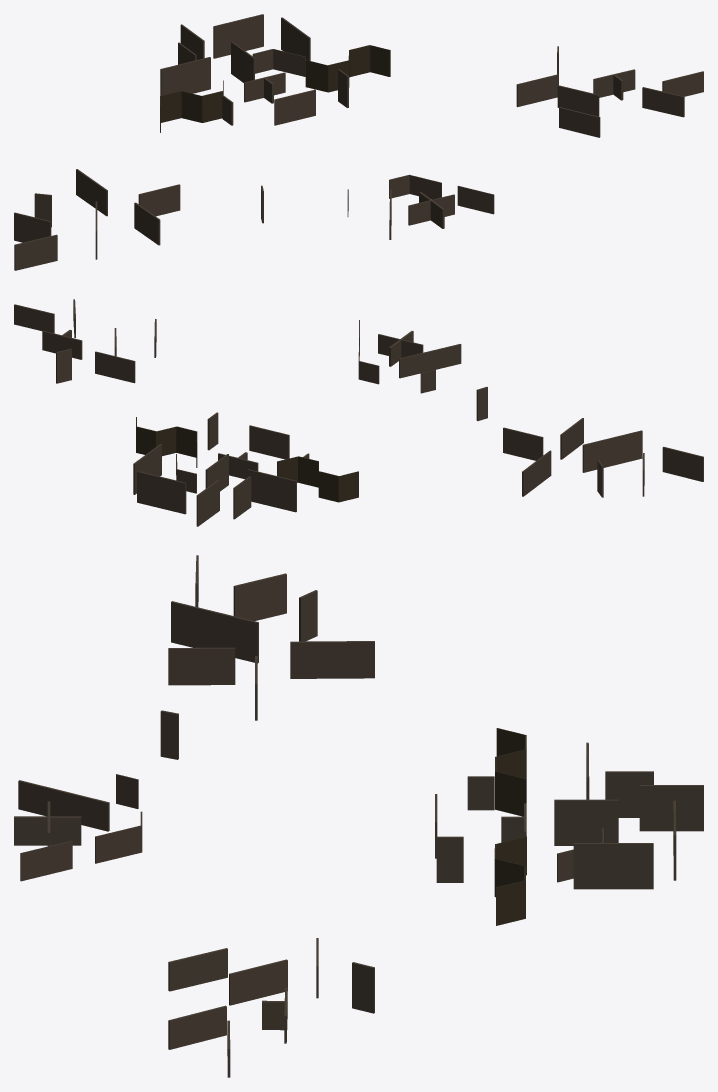
The model's file is Stage1SeeableWalls.fbx.
3 views of the same model, one above another, from view 1: azimuth 30°, elevation 25°; view 2: azimuth 150°, elevation 25°; view 3: azimuth 270°, elevation 25° (orthographic). The views are drawn at different scales.
Visible parts, largest first — view 1: InnerWalls2, InnerWalls1, InnerWalls28, InnerWalls15, InnerWalls22, InnerWalls27, InnerWalls21, InnerWalls18, InnerWalls5, InnerWalls11, InnerWalls9, InnerWalls12 (+13 smaller); view 2: InnerWalls1, InnerWalls7, InnerWalls28, InnerWalls2, InnerWalls15, InnerWalls3, InnerWalls22, InnerWalls21, InnerWalls5, InnerWalls11, InnerWalls27, InnerWalls23 (+13 smaller); view 3: InnerWalls30, InnerWalls7, InnerWalls6, InnerWalls17, InnerWalls26, InnerWalls2, InnerWalls3, InnerWalls20, InnerWalls1, InnerWalls8, InnerWalls27, InnerWalls12 (+11 smaller).
Part boxes in pixels (bbox=[...]): InnerWalls2: bbox=[305, 45, 390, 92]; InnerWalls1: bbox=[160, 80, 223, 132]; InnerWalls28: bbox=[213, 14, 263, 58]; InnerWalls15: bbox=[160, 57, 210, 95]; InnerWalls22: bbox=[14, 234, 57, 270]; InnerWalls27: bbox=[408, 192, 454, 228]; InnerWalls21: bbox=[274, 89, 315, 125]; InnerWalls18: bbox=[252, 49, 305, 76]; InnerWalls5: bbox=[138, 184, 180, 216]; InnerWalls11: bbox=[516, 74, 558, 107]; InnerWalls9: bbox=[389, 174, 441, 199]; InnerWalls12: bbox=[557, 85, 599, 116]; InnerWalls1: bbox=[277, 456, 358, 502]; InnerWalls7: bbox=[582, 430, 642, 472]; InnerWalls28: bbox=[137, 471, 186, 514]; InnerWalls2: bbox=[136, 417, 197, 467]; InnerWalls15: bbox=[247, 469, 296, 512]; InnerWalls3: bbox=[399, 344, 461, 378]; InnerWalls22: bbox=[662, 446, 703, 481]; InnerWalls21: bbox=[249, 425, 289, 459]; InnerWalls5: bbox=[503, 427, 543, 460]; InnerWalls11: bbox=[95, 351, 135, 383]; InnerWalls27: bbox=[378, 331, 423, 366]; InnerWalls23: bbox=[14, 304, 54, 333]; InnerWalls30: bbox=[573, 843, 653, 889]; InnerWalls7: bbox=[171, 601, 258, 663]; InnerWalls6: bbox=[290, 641, 374, 678]; InnerWalls17: bbox=[639, 785, 703, 831]; InnerWalls26: bbox=[554, 799, 618, 845]; InnerWalls2: bbox=[494, 836, 526, 925]; InnerWalls3: bbox=[18, 780, 109, 831]; InnerWalls20: bbox=[168, 647, 235, 685]; InnerWalls1: bbox=[495, 728, 526, 816]; InnerWalls8: bbox=[233, 573, 286, 620]; InnerWalls27: bbox=[14, 801, 81, 846]; InnerWalls12: bbox=[229, 959, 287, 1005].
Bounding box in the file's own units: 310 × 13.81 × 186.
